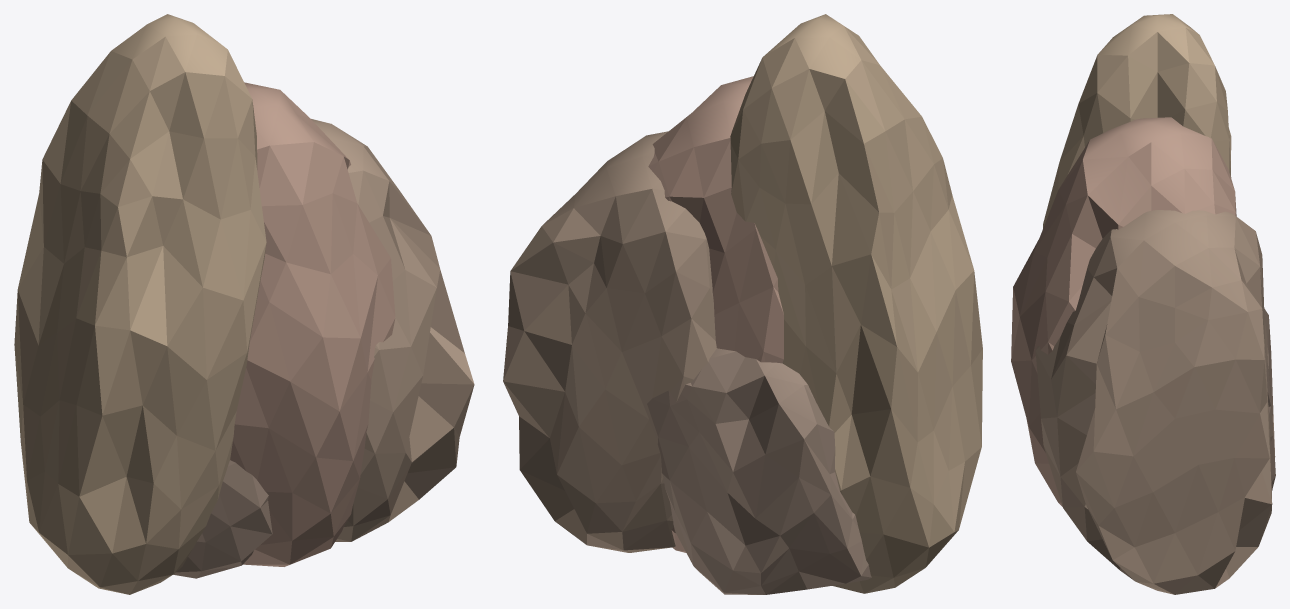
Rendered from Aiguille_2.fbx.
3 renders of one model, left to right at view 1: azimuth 30°, elevation 25°; view 2: azimuth 150°, elevation 25°; view 3: azimuth 270°, elevation 25°, orthographic. The views are drawn at different scales.
Visible parts, largest first — view 1: Aiguille_2; view 2: Aiguille_2; view 3: Aiguille_2.
Boxes of the visible parts, x1,y1,x2,y2 form: Aiguille_2: [14, 14, 474, 594]; Aiguille_2: [503, 14, 982, 594]; Aiguille_2: [1011, 14, 1275, 594].
Size of the model in its own units: 237 by 321 by 156.
